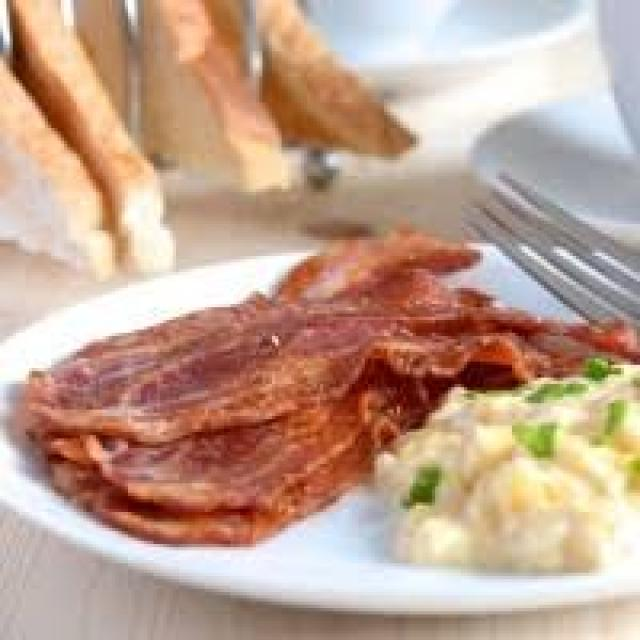Bacon: (52, 359, 438, 543), (34, 299, 392, 408)
